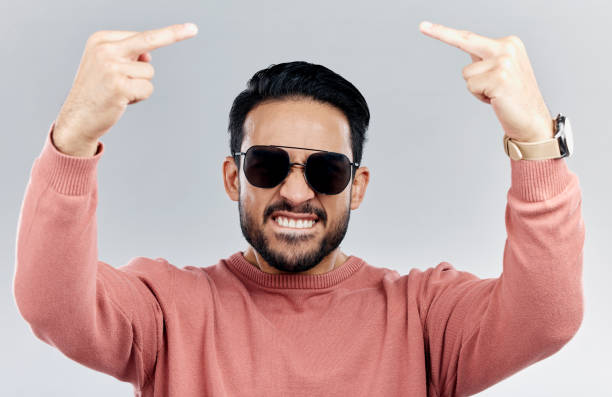insulting_gesture: (418, 19, 539, 135), (73, 20, 198, 126)
